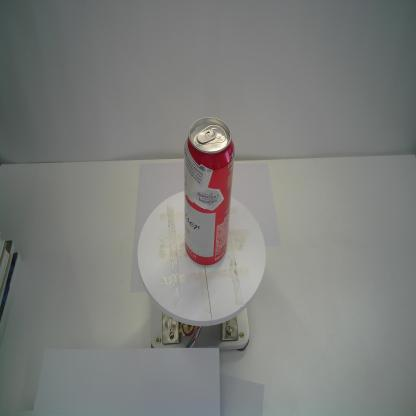Alcohol: (183, 116, 235, 266)
